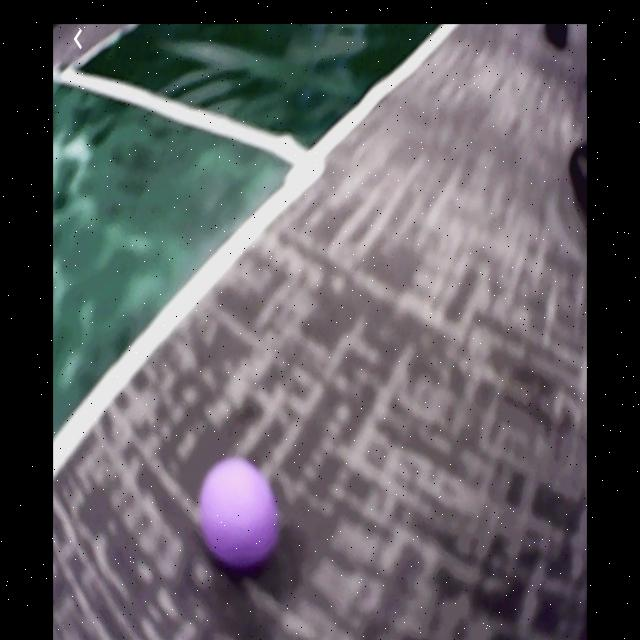ball: (201, 460, 280, 567)
